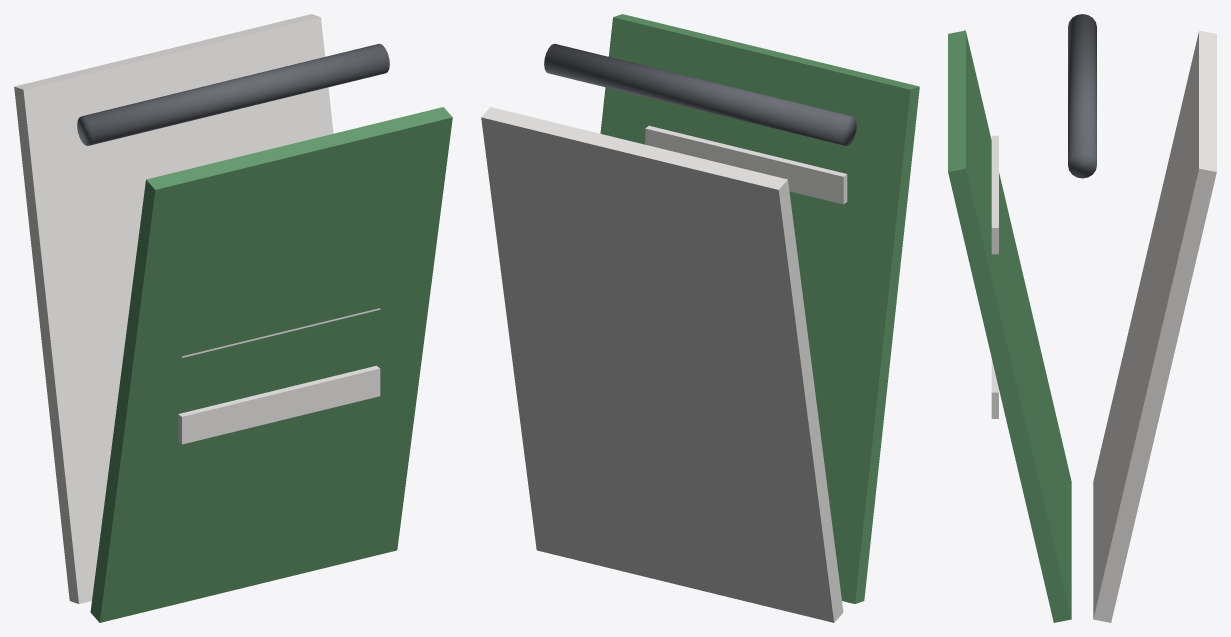
File: prop_tate_aframe_green.glb
3 views of the same model, side by side, from view 1: azimuth 30°, elevation 25°; view 2: azimuth 150°, elevation 25°; view 3: azimuth 270°, elevation 25° (orthographic). The views are drawn at different scales.
Visible parts, largest first — view 1: tate_aframe_green; view 2: tate_aframe_green; view 3: tate_aframe_green.
Part boxes in pixels (<box>): tate_aframe_green: <box>14,14,452,622</box>; tate_aframe_green: <box>481,14,919,622</box>; tate_aframe_green: <box>948,14,1216,622</box>.
Size of the model in its own units: 0.9 by 1.43 by 0.74.
